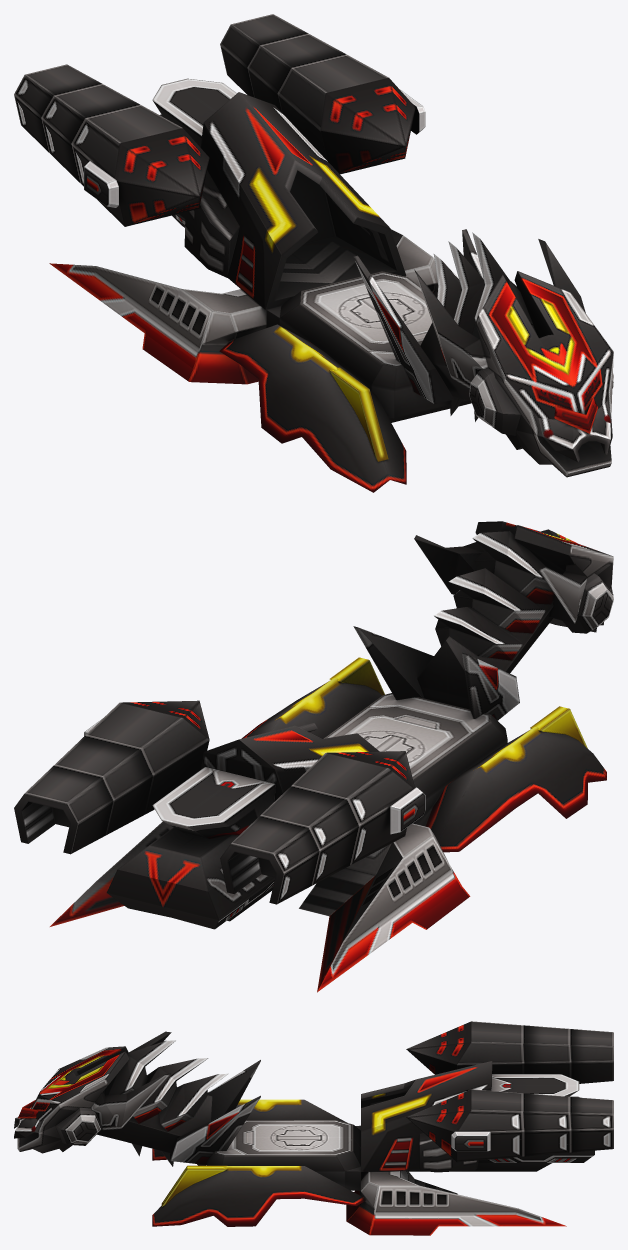
Rendered from datan_common_ss0_body65_brk_d425d7cb.obj.
The picture shows the model from 3 angles, top to bottom: view 1: azimuth 30°, elevation 25°; view 2: azimuth 150°, elevation 25°; view 3: azimuth 270°, elevation 25°; orthographic projection. The views are drawn at different scales.
Visible parts, largest first — view 1: datan_common_ss0_body65_brk_d425d7cb; view 2: datan_common_ss0_body65_brk_d425d7cb; view 3: datan_common_ss0_body65_brk_d425d7cb.
Part boxes in pixels (x1,y1,x2,y2): datan_common_ss0_body65_brk_d425d7cb: (14,14,613,492); datan_common_ss0_body65_brk_d425d7cb: (14,521,613,992); datan_common_ss0_body65_brk_d425d7cb: (14,1021,613,1235).
Bounding box in the file's own units: 1.13 × 0.7509 × 2.75.
1 material, 1 textured.
